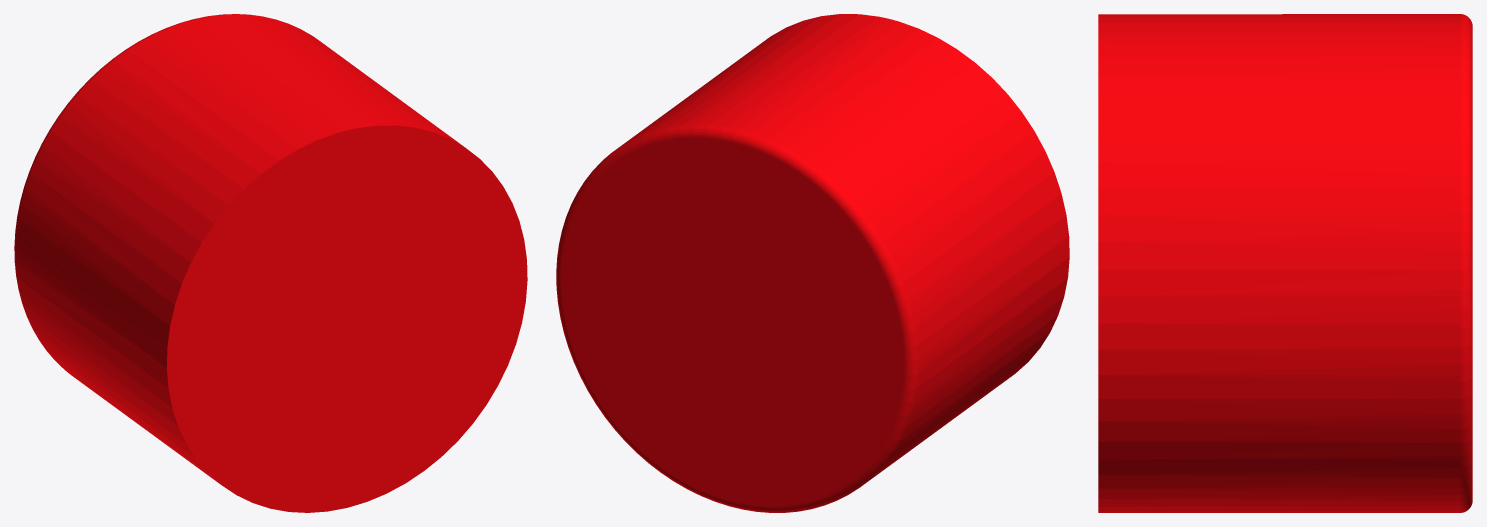
Rendered from Button.glb.
The picture shows the model from 3 angles, left to right: view 1: azimuth 30°, elevation 25°; view 2: azimuth 150°, elevation 25°; view 3: azimuth 270°, elevation 25°; orthographic projection. The views are drawn at different scales.
Visible parts, largest first — view 1: Button; view 2: Button; view 3: Button.
Part boxes in pixels (left/top/right/bottom): Button: left=14, top=14, right=527, bottom=512; Button: left=556, top=14, right=1069, bottom=512; Button: left=1098, top=14, right=1472, bottom=512.
Size of the model in its own units: 10 by 10 by 7.5.
